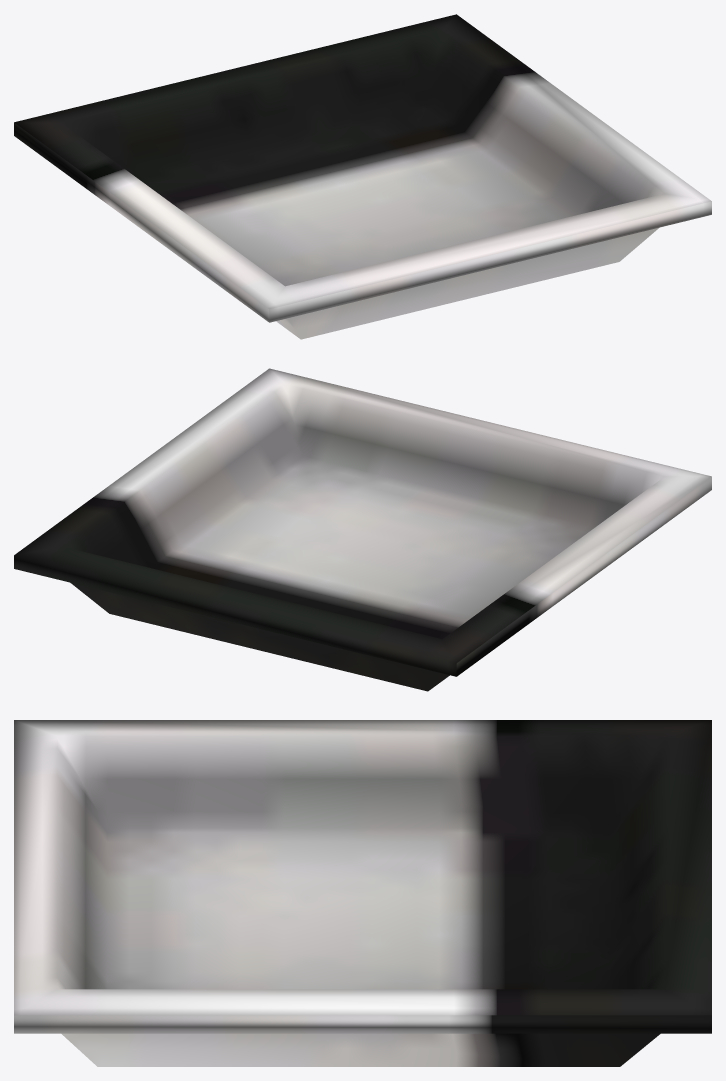
Rendered from Plate_Ceramic02.FBX.
3 renders of one model, top to bottom at view 1: azimuth 30°, elevation 25°; view 2: azimuth 150°, elevation 25°; view 3: azimuth 270°, elevation 25°, orthographic. The views are drawn at different scales.
Visible parts, largest first — view 1: Plate_Ceramic02; view 2: Plate_Ceramic02; view 3: Plate_Ceramic02.
Part boxes in pixels (bbox=[...]): Plate_Ceramic02: bbox=[14, 14, 711, 339]; Plate_Ceramic02: bbox=[14, 368, 711, 691]; Plate_Ceramic02: bbox=[14, 720, 711, 1066].
Bounding box in the file's own units: 0.1994 × 0.0308 × 0.1992.
